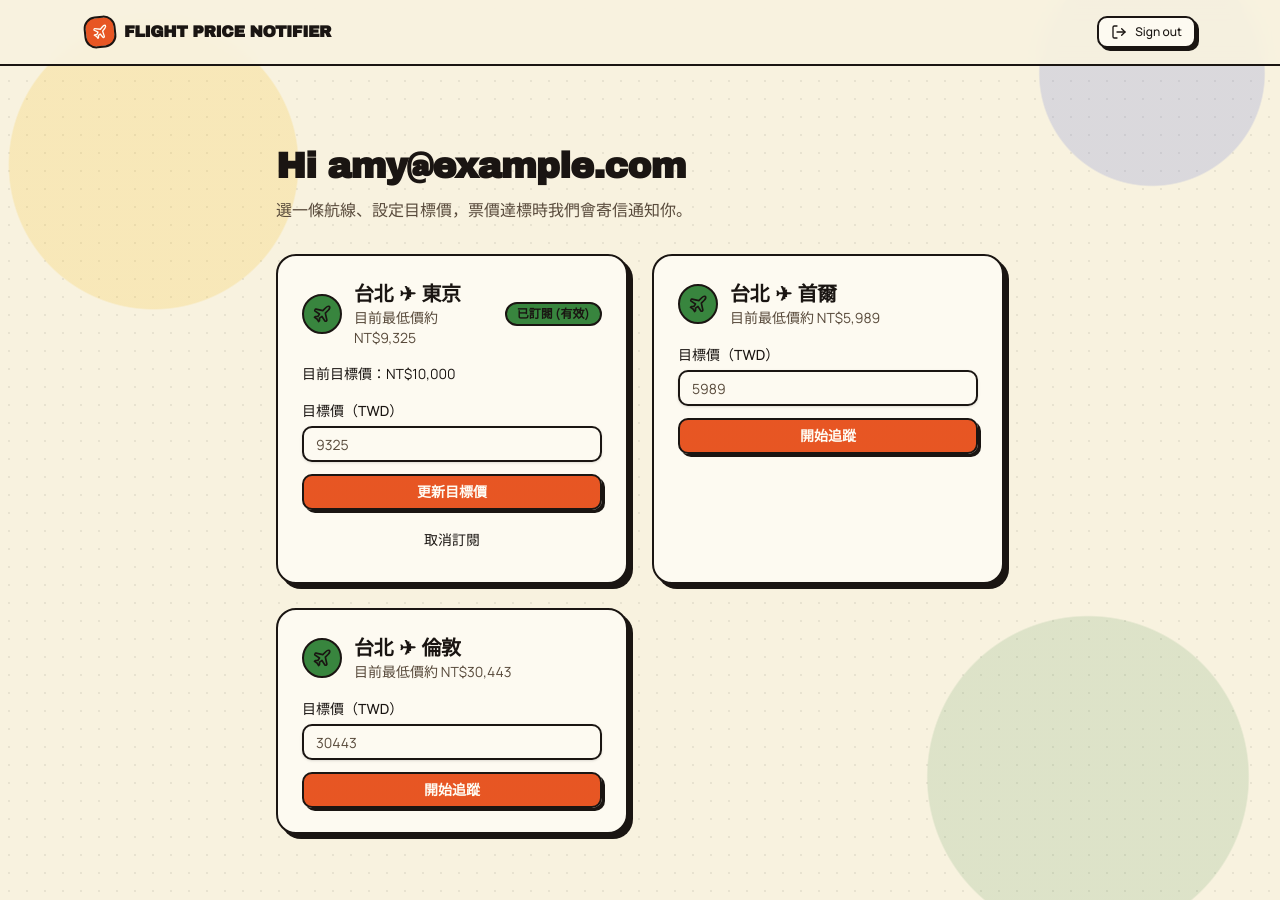
Test: Dashboard cancel and grace period › 取消訂閱 asks first, then cancels and shows 已取消 · 有效至 the paid-through date
The width and height of the screenshot is (1280, 900).
What coordinates should you click on to do the following:
click the button "取消訂閱"
I would click on:
 (452, 540)
Its box is [302,522,602,558].
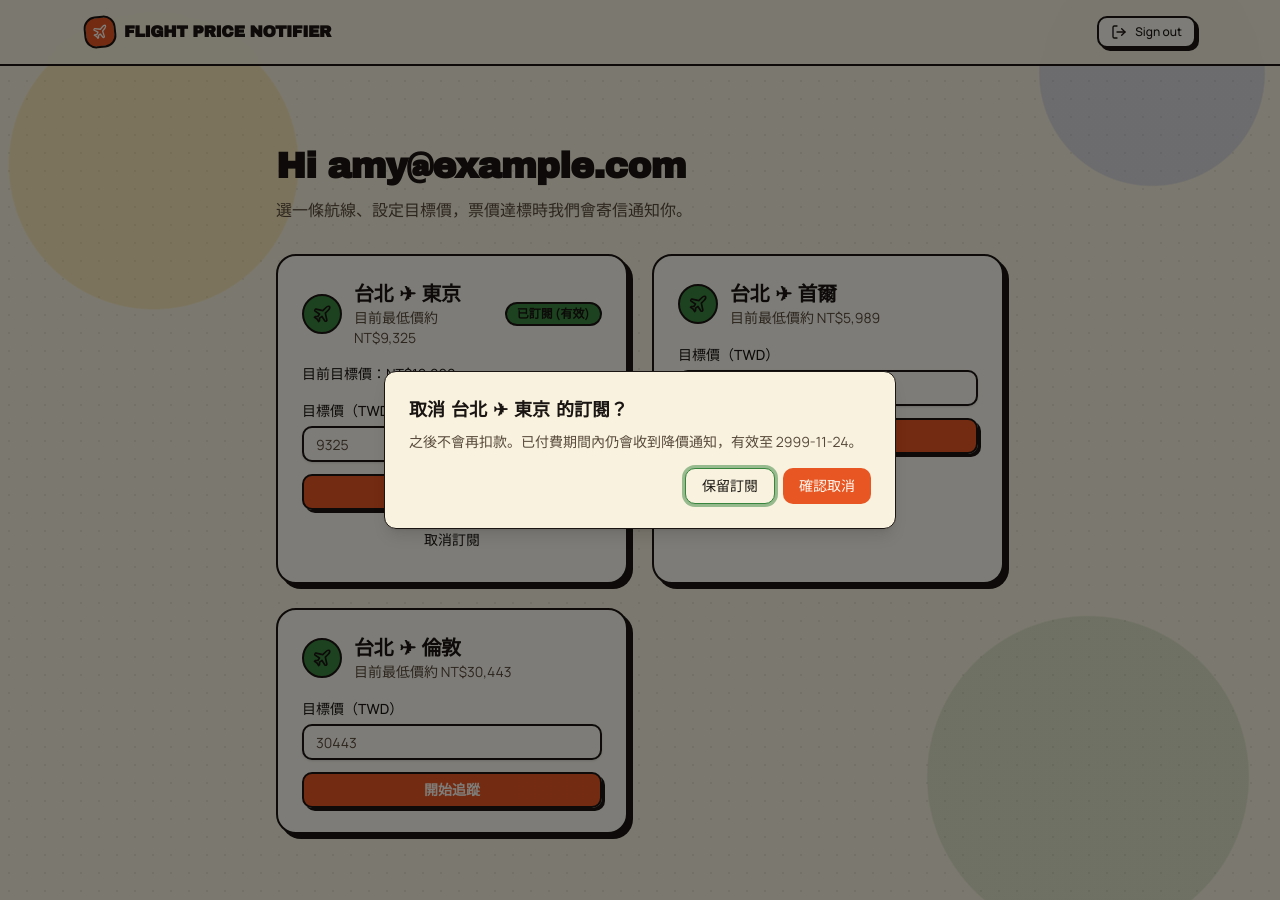
Check: the dialog shows "有效至 2999-11-24", box [717,432,848,451]
What coordinates should you click on to do the following:
click the button "確認取消"
I would click on:
 (827, 486)
Its box is [783,468,871,504].
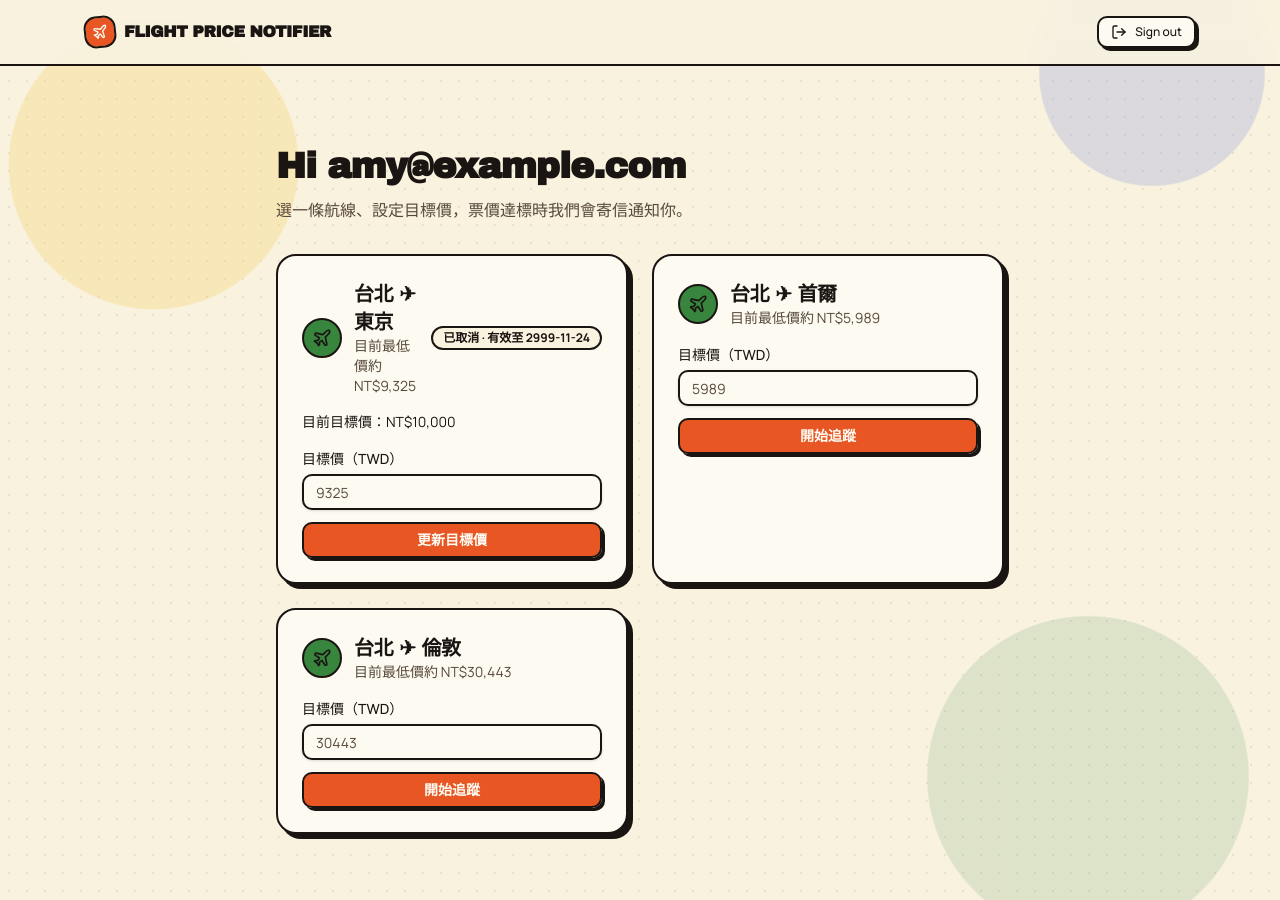
Check: the text "已取消 · 有效至 2999-11-24" is shown, box [431,326,602,350]
Check: the text "已訂閱 (有效)" is gone
Check: the button "取消訂閱" is gone
